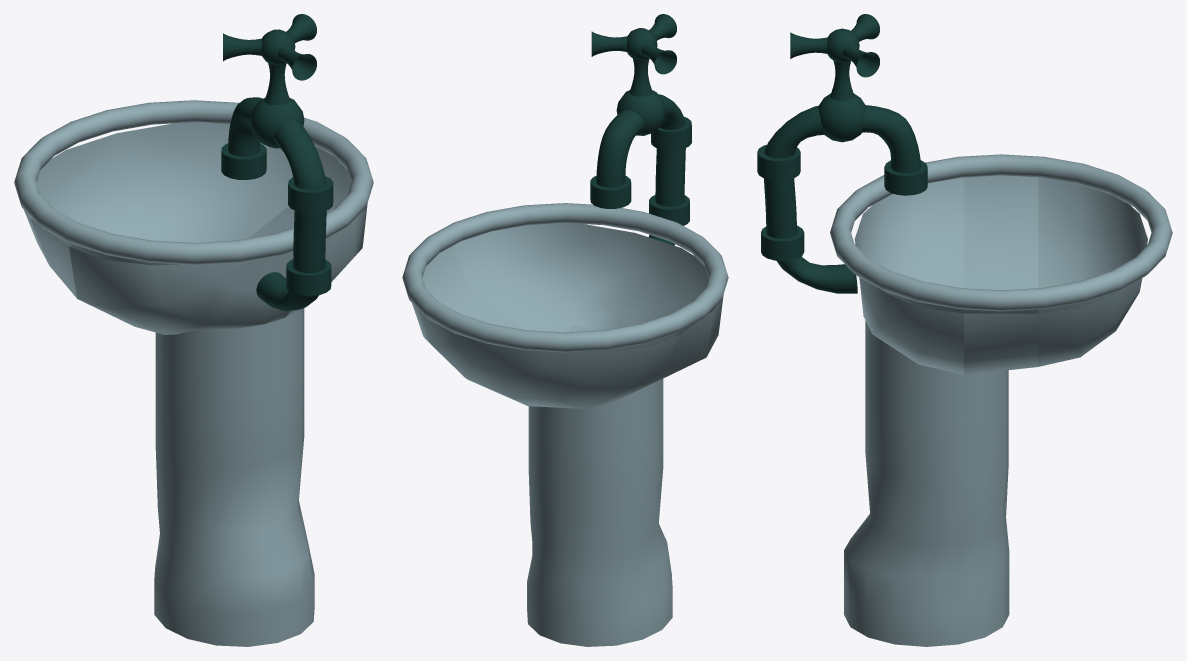
Rendered from lavamanos.FBX.
3 renders of one model, left to right at view 1: azimuth 30°, elevation 25°; view 2: azimuth 150°, elevation 25°; view 3: azimuth 270°, elevation 25°, orthographic. The views are drawn at different scales.
Visible parts, largest first — view 1: Cylinder001, OilTank004, OilTank003, Torus001, Loft001, Sphere002, Cylinder003, Cylinder002, Cylinder004, Line003, Sphere003, Line002 (+2 smaller); view 2: Cylinder001, OilTank004, Torus001, OilTank003, Loft001, Sphere002, Cylinder002, Cylinder003, Cylinder004, Line004, Sphere003, Line002 (+2 smaller); view 3: Cylinder001, OilTank004, Torus001, OilTank003, Loft001, Sphere002, Cylinder002, Cylinder003, Cylinder004, Line005, Sphere003, Line002 (+1 smaller).
Part boxes in pixels (x1=…): Cylinder001: x1=154, y1=308, x2=314, y2=646; OilTank004: x1=28, y1=122, x2=351, y2=265; OilTank003: x1=23, y1=203, x2=367, y2=334; Torus001: x1=14, y1=100, x2=373, y2=264; Loft001: x1=228, y1=97, x2=326, y2=311; Sphere002: x1=250, y1=98, x2=304, y2=148; Cylinder003: x1=288, y1=176, x2=333, y2=213; Cylinder002: x1=221, y1=143, x2=266, y2=179; Cylinder004: x1=286, y1=259, x2=331, y2=296; Line003: x1=278, y1=45, x2=316, y2=80; Sphere003: x1=261, y1=29, x2=295, y2=65; Line002: x1=264, y1=63, x2=289, y2=105; Cylinder001: x1=527, y1=379, x2=672, y2=646; OilTank004: x1=422, y1=222, x2=715, y2=352; Torus001: x1=402, y1=203, x2=728, y2=352; OilTank003: x1=412, y1=295, x2=723, y2=408; Loft001: x1=596, y1=94, x2=685, y2=245; Sphere002: x1=616, y1=90, x2=665, y2=135; Cylinder002: x1=590, y1=176, x2=631, y2=208; Cylinder003: x1=651, y1=117, x2=691, y2=150; Cylinder004: x1=649, y1=195, x2=689, y2=225; Line004: x1=641, y1=42, x2=676, y2=74; Sphere003: x1=626, y1=28, x2=657, y2=60; Line002: x1=629, y1=58, x2=652, y2=96; Cylinder001: x1=844, y1=320, x2=1009, y2=646; OilTank004: x1=854, y1=175, x2=1147, y2=313; Torus001: x1=830, y1=154, x2=1172, y2=311; OilTank003: x1=855, y1=244, x2=1147, y2=374; Loft001: x1=764, y1=105, x2=920, y2=293; Sphere002: x1=818, y1=93, x2=865, y2=142; Cylinder002: x1=884, y1=160, x2=927, y2=195; Cylinder003: x1=757, y1=144, x2=800, y2=180; Cylinder004: x1=761, y1=225, x2=804, y2=260; Line005: x1=842, y1=43, x2=879, y2=77; Sphere003: x1=827, y1=28, x2=859, y2=62; Line002: x1=830, y1=60, x2=854, y2=101.
Size of the model in its own units: 316 by 594 by 383.
